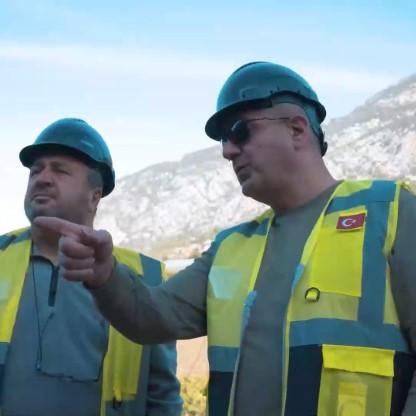helmet: (190, 64, 341, 227), (5, 115, 116, 235)
